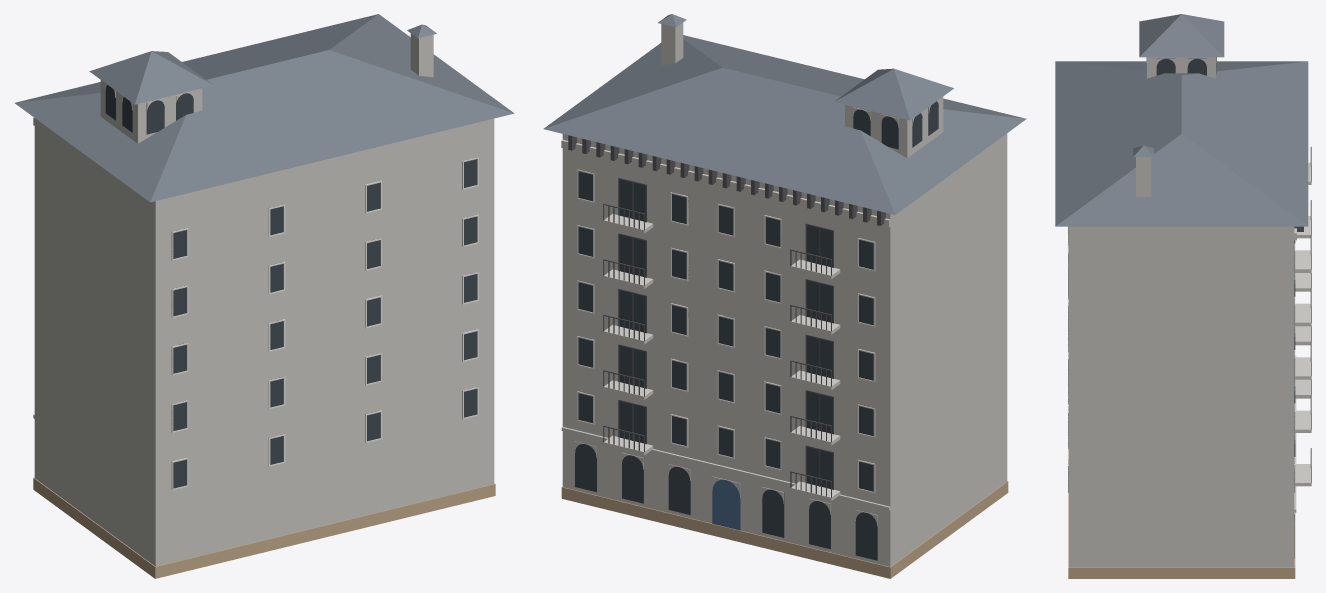
Rendered from ca_classical6_bays.glb.
3 renders of one model, left to right at view 1: azimuth 30°, elevation 25°; view 2: azimuth 150°, elevation 25°; view 3: azimuth 270°, elevation 25°, orthographic. The views are drawn at different scales.
Parts seen in each view (by area): view 1: ca_classical6_bays; view 2: ca_classical6_bays; view 3: ca_classical6_bays.
Part boxes in pixels (x1,y1,x2,y2): ca_classical6_bays: [15, 14, 514, 578]; ca_classical6_bays: [543, 14, 1026, 578]; ca_classical6_bays: [1055, 14, 1311, 578].
Bounding box in the file's own units: 22.6 × 27.8 × 14.8.
